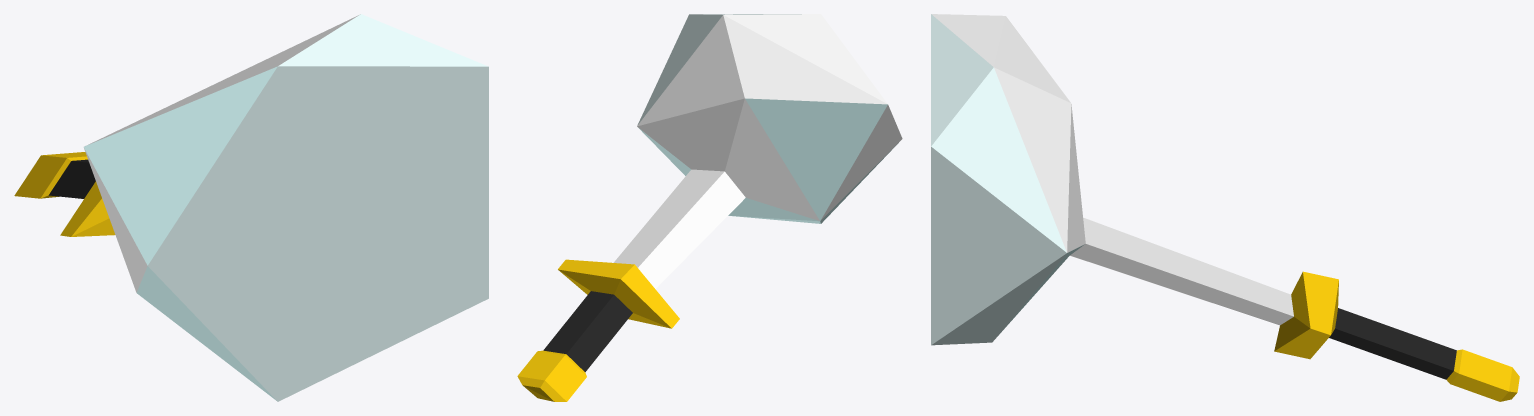
The model's file is winter_object_4.fbx.
3 renders of one model, left to right at view 1: azimuth 30°, elevation 25°; view 2: azimuth 150°, elevation 25°; view 3: azimuth 270°, elevation 25°, orthographic. The views are drawn at different scales.
Parts seen in each view (by area): view 1: Icosphere; view 2: Icosphere; view 3: Icosphere.
Boxes of the visible parts, box(x1,y1,x2,y2) form: Icosphere: box(14, 14, 488, 401); Icosphere: box(517, 14, 902, 401); Icosphere: box(931, 14, 1519, 401).
Size of the model in its own units: 82.97 by 85.9 by 135.
